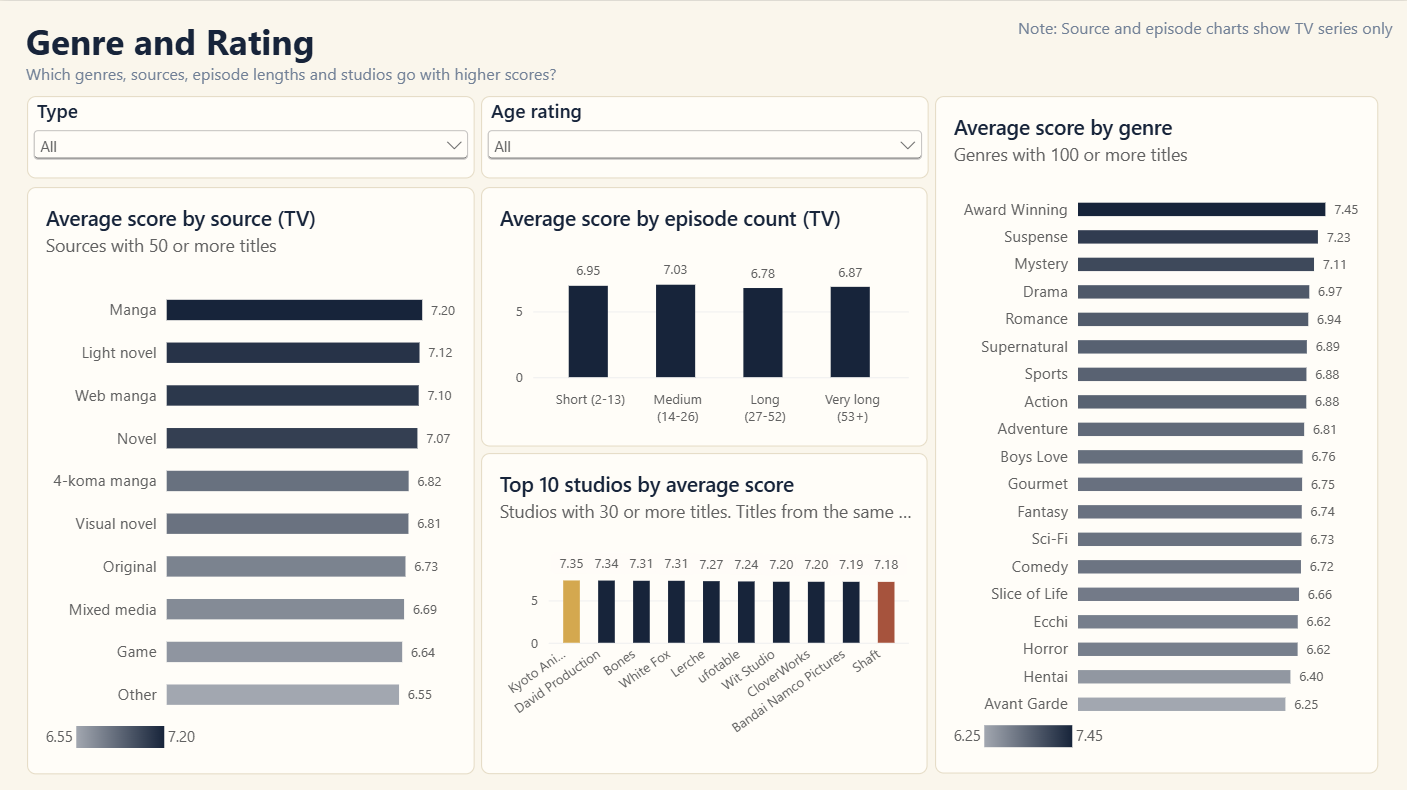

This screenshot's page, from the dashboard's own definition file:
{"tool":"powerbi","page":{"name":"Genre and Rating","canvas":[1280,720],"ordinal":1},"visuals":[{"type":"textbox","box":[24,14,700,48],"z":0,"group":"g1"},{"type":"group","id":"g1","title":"Group 1","box":[24,14,900.6,66.2],"z":0},{"type":"textbox","box":[886.3,14,379.7,24],"z":1000},{"type":"textbox","box":[24.2,56.1,900.5,24.2],"z":1000,"group":"g1"},{"type":"slicer","title":"Type","fields":{"Values":["anime_cleaned.type"]},"box":[24.3,86.6,407,74.9],"z":2000},{"type":"slicer","title":"Age rating","fields":{"Values":["anime_cleaned.Age_can_read"]},"box":[437.1,86.4,406.6,74.9],"z":3000},{"type":"clusteredBarChart","title":"Average score by genre","fields":{"Category":["anime_genres.genre"],"Y":["_Measure.Avg Score (Genre 100+)"]},"box":[849.8,86.6,402.8,615.7],"z":4000},{"type":"clusteredBarChart","title":"Average score by source (TV)","fields":{"Category":["anime_cleaned.source"],"Y":["_Measure.Avg Score (Source 50+)"]},"box":[24.7,168.7,407.2,533.6],"z":5000},{"type":"clusteredColumnChart","title":"Average score by episode count (TV)","fields":{"Category":["anime_cleaned.episode_category"],"Y":["_Measure.Avg Score"]},"box":[437.3,168.7,406.3,235.9],"z":6000},{"type":"lineClusteredColumnComboChart","title":"Top 10 studios by average score","fields":{"Category":["anime_cleaned.main_studio"],"Y":["_Measure.Avg Score (Studio 30+)"]},"box":[437.3,410.8,406.3,291.5],"z":7000}]}

Visuals, with their boxes in screenshot pixels (x1, y1, x2, y2), scaled from the page's 1280x720 canvas onto the 1407x790 screenshot:
textbox: [left=26, top=15, right=796, bottom=68]
"Group 1" group: [left=26, top=15, right=1016, bottom=88]
textbox: [left=974, top=15, right=1392, bottom=42]
textbox: [left=27, top=62, right=1016, bottom=88]
"Type" slicer: [left=27, top=95, right=474, bottom=177]
"Age rating" slicer: [left=480, top=95, right=927, bottom=177]
"Average score by genre" clusteredBarChart: [left=934, top=95, right=1377, bottom=771]
"Average score by source (TV)" clusteredBarChart: [left=27, top=185, right=475, bottom=771]
"Average score by episode count (TV)" clusteredColumnChart: [left=481, top=185, right=927, bottom=444]
"Top 10 studios by average score" lineClusteredColumnComboChart: [left=481, top=451, right=927, bottom=771]
